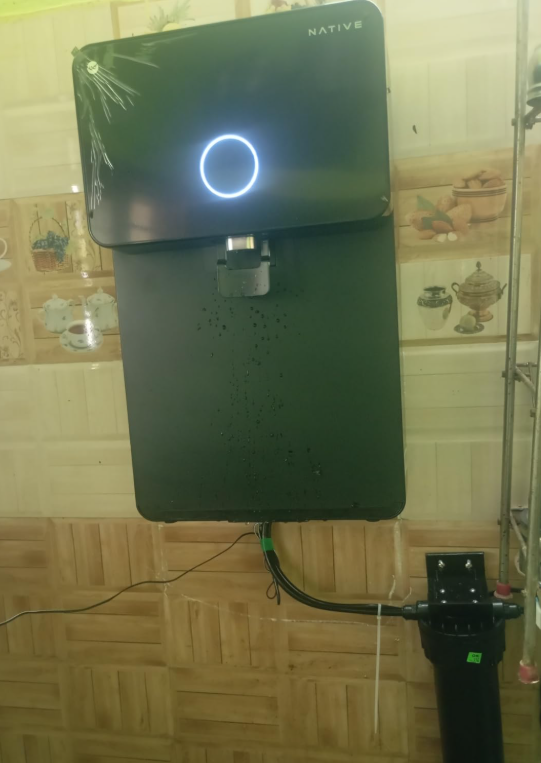water purifier: (68, 19, 395, 544)
